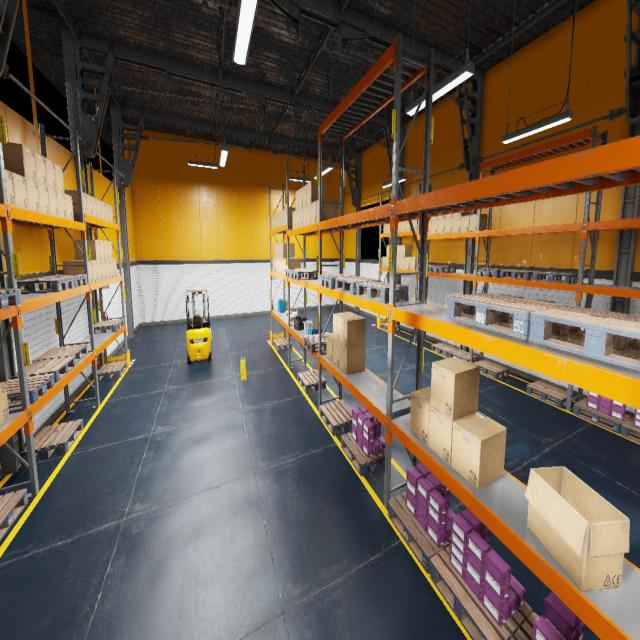box: (524, 466, 630, 592), (451, 411, 506, 491), (430, 356, 480, 421), (428, 405, 477, 466), (2, 142, 37, 182), (410, 386, 430, 446), (340, 315, 366, 347), (339, 343, 365, 375), (333, 312, 356, 342), (63, 260, 93, 282), (11, 172, 28, 210), (64, 190, 87, 214), (74, 240, 101, 260), (316, 198, 338, 222), (25, 178, 40, 212), (34, 151, 47, 186), (307, 181, 326, 204), (37, 182, 50, 215), (0, 382, 9, 426), (4, 169, 14, 206), (45, 157, 56, 190), (47, 187, 59, 217), (54, 162, 64, 194), (469, 214, 487, 231), (56, 190, 66, 218), (64, 194, 74, 220), (284, 258, 298, 273), (280, 243, 294, 258), (333, 338, 339, 368), (285, 207, 295, 223), (91, 196, 98, 218), (460, 215, 469, 232), (286, 258, 301, 268), (91, 260, 98, 281), (327, 333, 332, 362), (400, 244, 412, 256), (452, 216, 461, 232), (410, 256, 420, 270), (86, 193, 92, 216), (437, 218, 445, 234), (96, 198, 102, 218), (311, 200, 316, 223), (100, 201, 106, 220), (445, 217, 452, 233), (430, 220, 438, 234), (412, 219, 421, 231), (97, 260, 102, 280), (404, 257, 412, 269), (453, 211, 469, 217), (100, 240, 105, 259), (302, 184, 306, 207), (105, 203, 110, 221), (109, 259, 114, 277), (104, 241, 109, 259), (307, 203, 311, 225), (302, 205, 306, 226), (108, 242, 113, 258), (295, 190, 299, 210), (299, 207, 303, 227), (295, 209, 299, 228), (292, 210, 296, 229), (102, 260, 106, 278), (106, 260, 110, 278), (113, 258, 117, 276), (109, 205, 113, 222), (299, 187, 302, 209), (537, 300, 555, 303), (427, 221, 431, 234), (406, 221, 411, 231), (401, 221, 406, 231), (290, 310, 298, 316), (400, 256, 404, 268), (383, 224, 388, 233), (382, 256, 386, 267), (397, 222, 401, 232), (290, 314, 296, 320), (396, 256, 399, 268), (397, 244, 400, 256), (386, 245, 389, 256), (283, 208, 285, 224), (445, 214, 453, 218), (280, 210, 282, 225), (281, 258, 283, 273), (278, 212, 280, 226), (276, 213, 278, 227), (279, 258, 281, 272), (273, 257, 275, 271), (278, 243, 280, 257), (438, 215, 445, 219), (431, 216, 438, 220), (274, 214, 276, 227), (272, 215, 274, 228), (276, 258, 278, 271), (274, 258, 276, 271), (276, 244, 278, 257), (285, 311, 290, 316), (386, 257, 388, 267), (388, 223, 390, 233), (275, 244, 276, 257), (293, 317, 295, 321), (408, 293, 409, 299)
forklift: (186, 289, 212, 365)
pallets: (430, 544, 532, 640), (528, 305, 640, 371), (446, 293, 566, 339), (388, 491, 450, 574), (20, 419, 83, 464), (573, 398, 631, 434), (341, 432, 385, 476), (0, 373, 55, 408), (9, 356, 76, 382), (0, 488, 28, 541), (526, 380, 574, 408), (319, 400, 352, 436), (356, 281, 408, 303), (32, 344, 88, 363), (17, 278, 74, 294), (509, 612, 539, 640), (335, 277, 381, 294), (34, 274, 87, 287), (297, 369, 326, 392), (474, 360, 508, 379), (97, 361, 127, 381), (320, 274, 360, 288), (532, 272, 578, 284), (303, 332, 330, 352), (620, 417, 640, 443), (94, 318, 124, 334), (0, 288, 22, 308), (448, 349, 479, 363), (431, 342, 459, 357), (500, 270, 540, 280), (477, 268, 512, 278), (291, 270, 322, 280), (284, 268, 312, 278), (273, 337, 292, 351), (380, 322, 400, 331), (429, 266, 456, 272), (416, 265, 439, 271)
